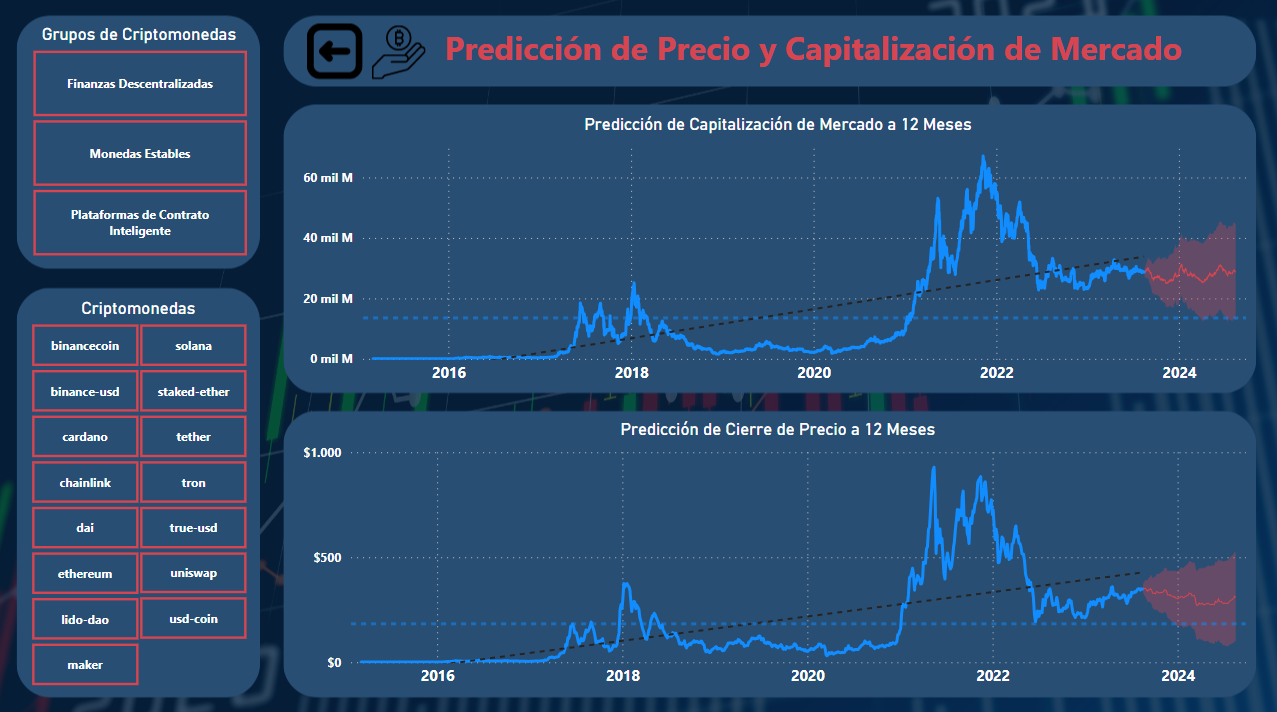

The dashboard page shown, as its layout file describes it:
{"tool":"powerbi","page":{"name":"Predicción 12 Meses","canvas":[1280,720],"ordinal":4},"visuals":[{"type":"lineChart","title":"Predicción de Capitalización de Mercado a 12 Meses","fields":{"Category":["combinado_completo.date"],"Y":["Avg(combinado_completo.market_caps)"]},"box":[300.6,115.6,959.4,278.8],"z":0},{"type":"lineChart","title":"Predicción de Cierre de Precio a 12 Meses","fields":{"Category":["combinado_completo.date"],"Y":["Avg(combinado_completo.close)"]},"box":[300.9,421.8,959.1,277.3],"z":1000},{"type":"textbox","box":[442.7,22.7,797.3,80.9],"z":2000},{"type":"slicer","title":"Grupos de Criptomonedas","fields":{"Values":["combinado_completo.Grupos de Criptomonedas"]},"box":[10,26.4,263.6,238.2],"z":3000},{"type":"slicer","title":"Criptomonedas","fields":{"Values":["combinado_completo.id"]},"box":[8.1,299.4,265,393.8],"z":4000},{"type":"actionButton","box":[308.3,22.9,58.6,48.4],"z":5000}]}

Visuals, with their boxes in screenshot pixels (x1, y1, x2, y2), scaled from the page's 1280x720 canvas onto the 1277x712 screenshot:
"Predicción de Capitalización de Mercado a 12 Meses" lineChart: <bbox>300, 114, 1257, 390</bbox>
"Predicción de Cierre de Precio a 12 Meses" lineChart: <bbox>300, 417, 1257, 691</bbox>
textbox: <bbox>442, 22, 1237, 102</bbox>
"Grupos de Criptomonedas" slicer: <bbox>10, 26, 273, 262</bbox>
"Criptomonedas" slicer: <bbox>8, 296, 272, 685</bbox>
actionButton: <bbox>308, 23, 366, 71</bbox>
